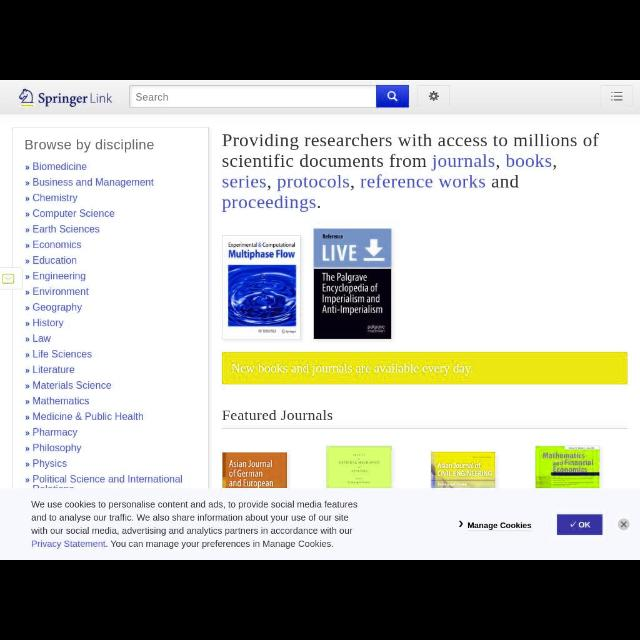button: (602, 85, 632, 108), (377, 85, 408, 106), (419, 87, 449, 107), (616, 519, 630, 529)
icon: (20, 89, 34, 107), (610, 90, 624, 104), (2, 274, 16, 284), (387, 91, 399, 102), (428, 92, 439, 101), (620, 520, 628, 528), (24, 476, 31, 484), (24, 336, 30, 344), (459, 520, 463, 530), (24, 164, 30, 170), (24, 212, 30, 218), (24, 306, 30, 312), (24, 368, 30, 374), (26, 288, 30, 296), (25, 182, 31, 186), (24, 228, 30, 232), (25, 243, 29, 249), (25, 274, 29, 280), (24, 322, 30, 326), (25, 352, 29, 358), (24, 384, 30, 388), (25, 416, 29, 422), (25, 462, 31, 466), (25, 196, 29, 200), (24, 260, 30, 262), (26, 399, 28, 405), (26, 446, 28, 452), (26, 432, 28, 436)
image: (314, 229, 392, 337), (221, 234, 299, 340), (327, 447, 393, 488), (536, 447, 598, 489), (222, 452, 288, 488), (432, 452, 496, 488)
input: (130, 86, 378, 105)
text: (222, 134, 598, 212), (31, 500, 358, 550), (231, 364, 473, 378), (34, 474, 182, 490), (24, 138, 154, 152), (222, 410, 334, 422), (33, 177, 155, 187), (38, 92, 112, 108), (33, 412, 144, 422), (33, 209, 115, 219), (33, 382, 111, 391), (34, 286, 88, 298), (32, 224, 100, 233), (32, 396, 90, 406), (34, 302, 82, 314), (33, 162, 87, 172), (32, 271, 86, 281), (32, 349, 92, 358), (468, 522, 532, 530), (32, 193, 78, 204), (33, 240, 83, 250), (33, 443, 81, 453), (32, 428, 78, 438), (33, 255, 76, 265), (136, 92, 168, 104), (32, 365, 74, 373), (34, 318, 64, 329), (34, 459, 66, 469), (32, 334, 52, 344), (570, 521, 592, 529)
textbutton: (452, 517, 534, 531), (556, 515, 602, 535)
